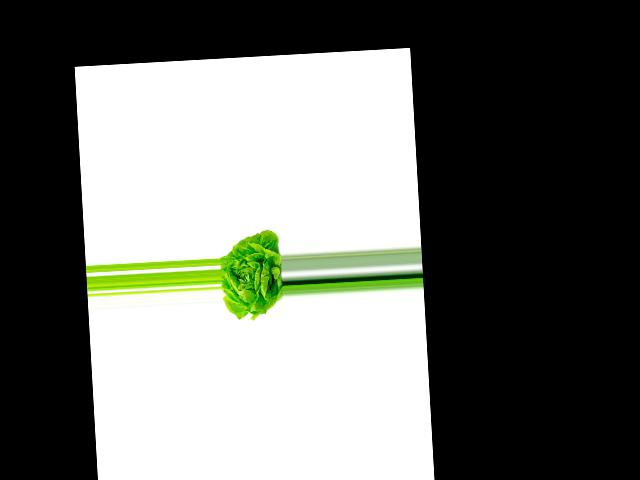lettuce: (218, 227, 285, 318)
